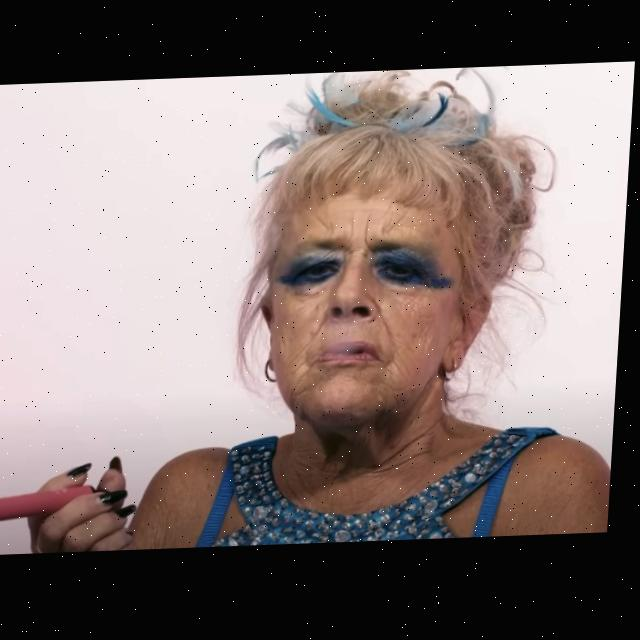vape: (0, 485, 115, 523)
